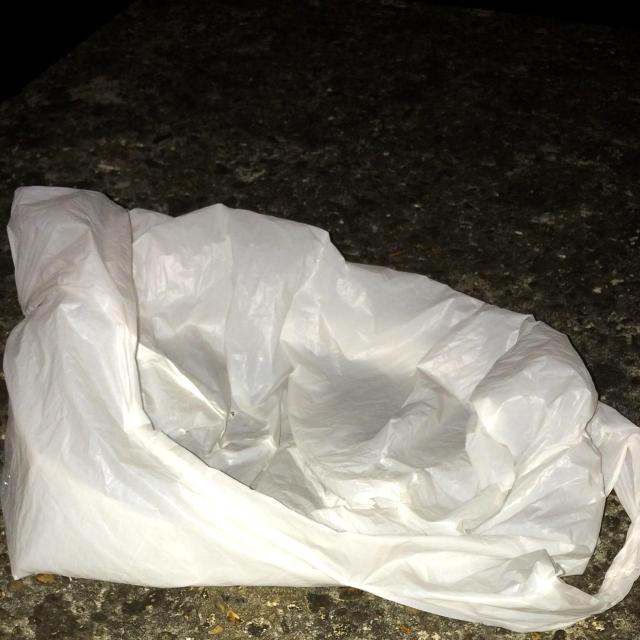Plastic: (0, 183, 640, 634)
